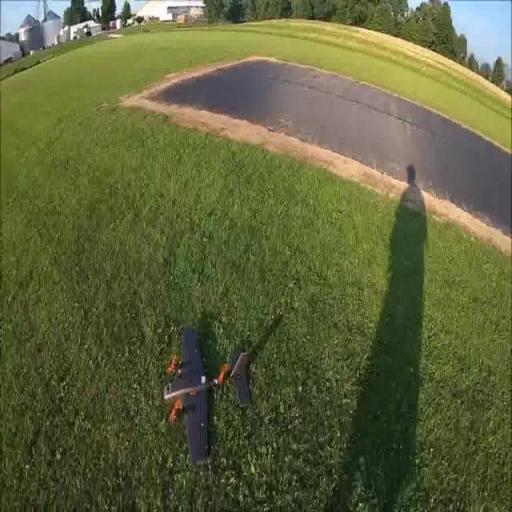uav: (164, 319, 258, 474)
